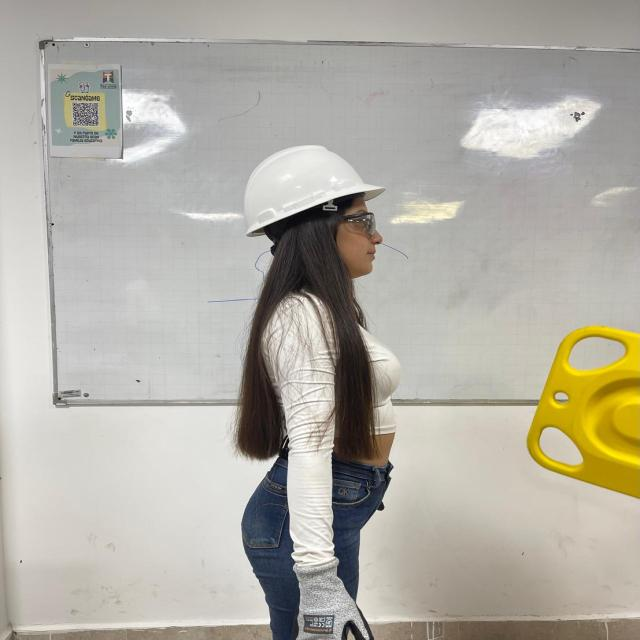gloves: (295, 558, 373, 639)
helmet: (245, 145, 387, 237)
protective_glasses: (341, 212, 377, 238)
